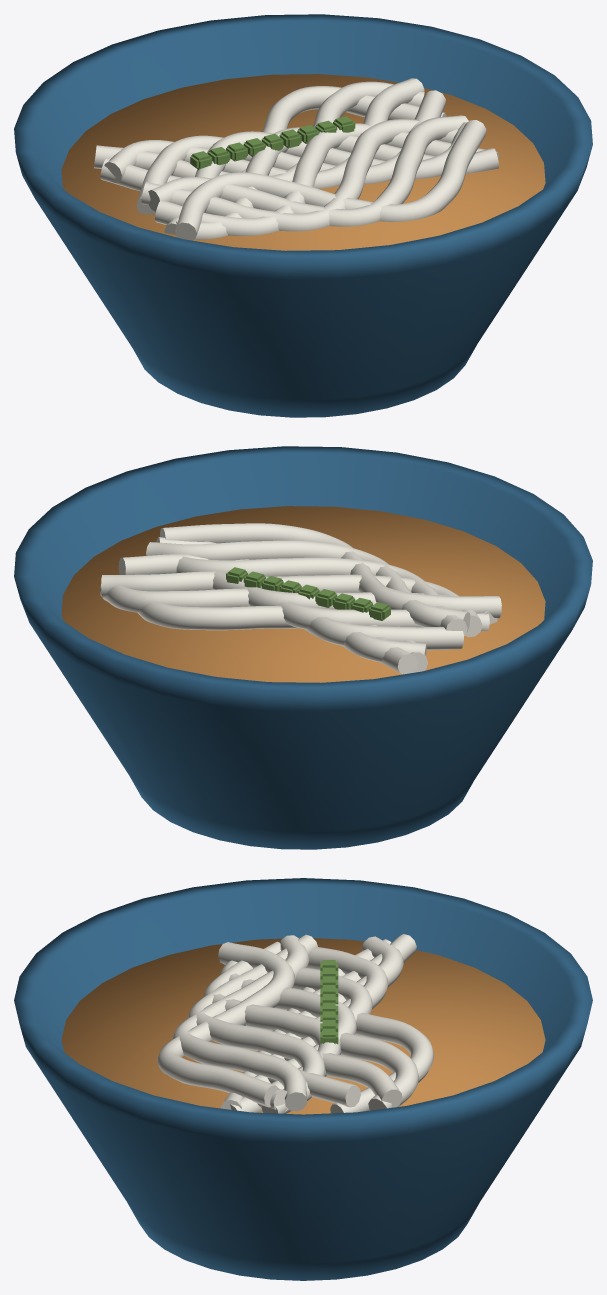
File: dish_kishimen.glb
The picture shows the model from 3 angles, top to bottom: view 1: azimuth 30°, elevation 25°; view 2: azimuth 150°, elevation 25°; view 3: azimuth 270°, elevation 25°; orthographic projection.
Visible parts, largest first — view 1: dish_kishimen_Seto_indigo_glaze, dish_kishimen_Paper_page_edges, dish_kishimen_Laminated_pastry, dish_kishimen_Leaf_green; view 2: dish_kishimen_Seto_indigo_glaze, dish_kishimen_Paper_page_edges, dish_kishimen_Laminated_pastry, dish_kishimen_Leaf_green; view 3: dish_kishimen_Seto_indigo_glaze, dish_kishimen_Paper_page_edges, dish_kishimen_Laminated_pastry, dish_kishimen_Leaf_green.
Boxes of the visible parts, left/top/right/bottom form: dish_kishimen_Seto_indigo_glaze: left=14, top=14, right=592, bottom=417; dish_kishimen_Paper_page_edges: left=94, top=78, right=498, bottom=240; dish_kishimen_Laminated_pastry: left=61, top=74, right=545, bottom=250; dish_kishimen_Leaf_green: left=190, top=116, right=355, bottom=169; dish_kishimen_Seto_indigo_glaze: left=14, top=446, right=592, bottom=849; dish_kishimen_Paper_page_edges: left=100, top=523, right=501, bottom=674; dish_kishimen_Laminated_pastry: left=61, top=506, right=545, bottom=682; dish_kishimen_Leaf_green: left=226, top=567, right=390, bottom=620; dish_kishimen_Seto_indigo_glaze: left=14, top=878, right=592, bottom=1280; dish_kishimen_Paper_page_edges: left=157, top=934, right=433, bottom=1113; dish_kishimen_Laminated_pastry: left=61, top=938, right=545, bottom=1114; dish_kishimen_Leaf_green: left=320, top=960, right=338, bottom=1044.
Bounding box in the file's own units: 0.45 × 0.18 × 0.45.
